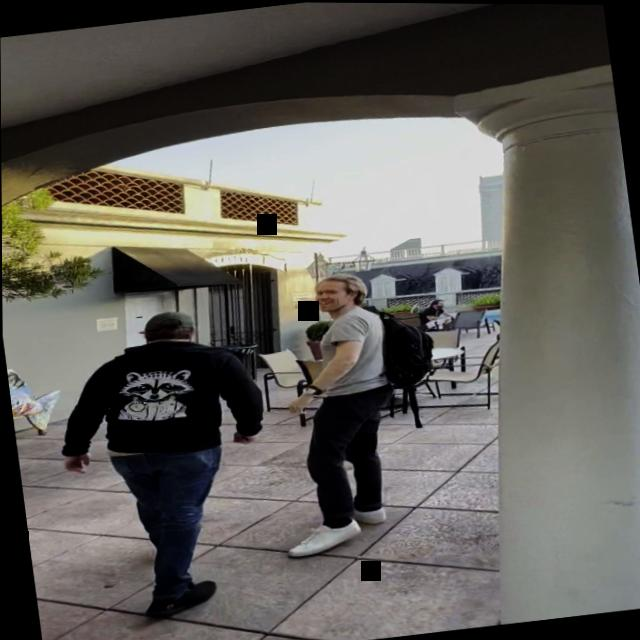NO-Mask: (312, 276, 347, 312), (436, 298, 445, 307)
